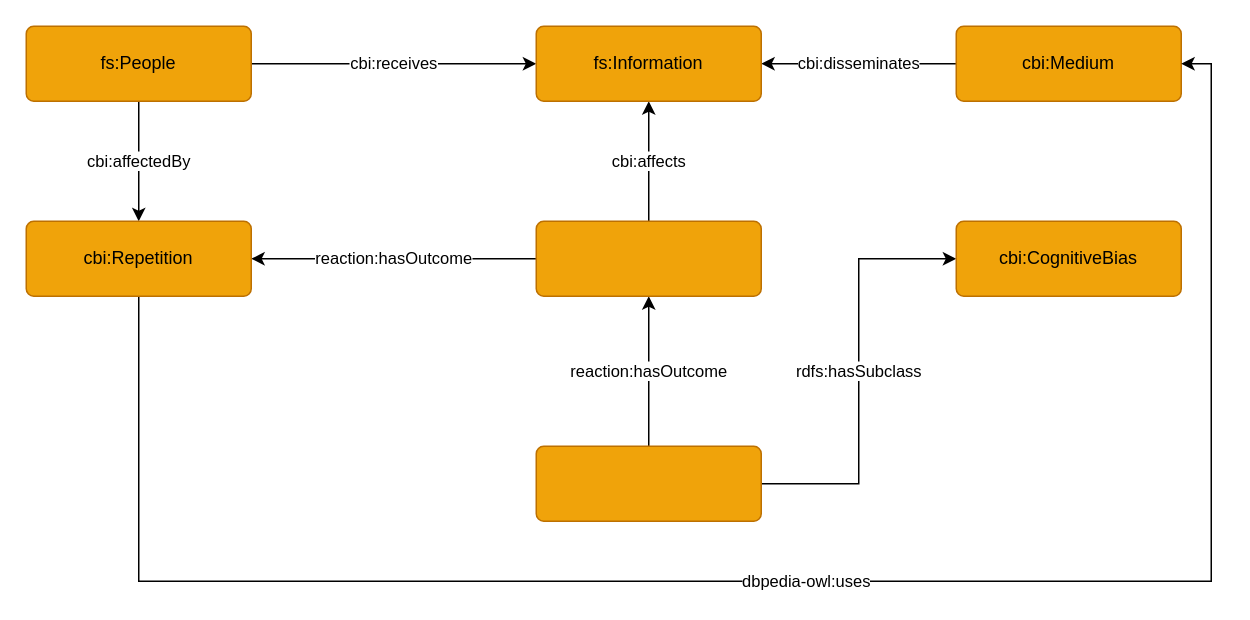
This 1250x620 diagram has some shape labels left out. The box of each missing label's shape, as (x1, y1, x2, y2) in pixels:
cbi:BeliefFormation: (535, 220, 761, 296)
cbi:IllusoryTruthEffect: (535, 445, 761, 521)
